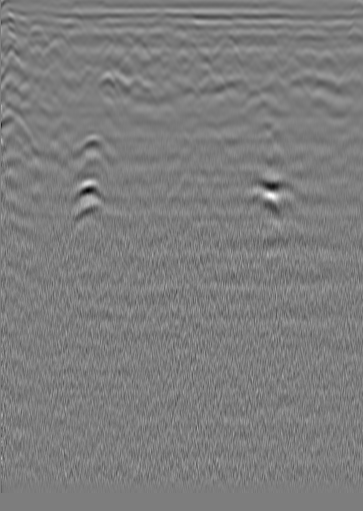가스: (69, 174, 105, 212)
상수: (330, 16, 350, 36)
오수: (47, 15, 67, 35)
우수: (213, 19, 233, 39)
